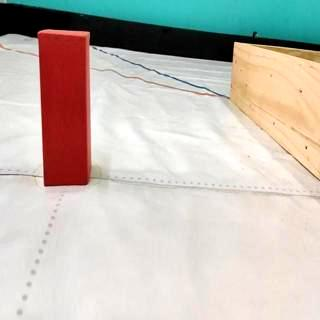redbox: (38, 28, 94, 188)
